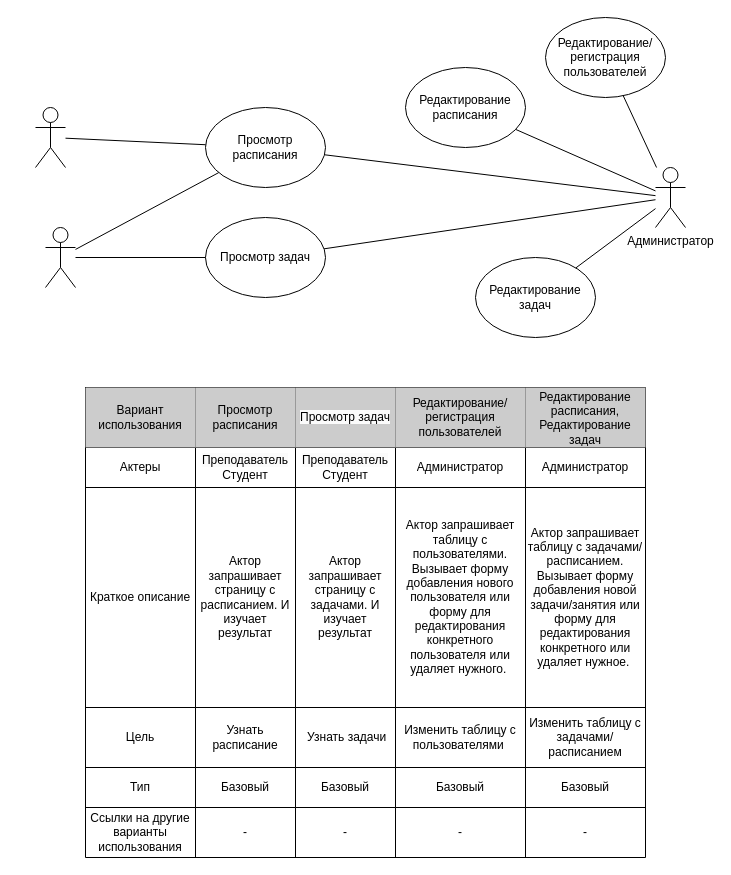
This 731x875 diagram has some shape labels left out. The shapes that lost their labels are listed below. From the top down, each one's box as (x1, y1, x2, y2) in pixels, then its label:
(34, 106, 66, 168): Студент
(44, 226, 76, 288): Преподаватель
